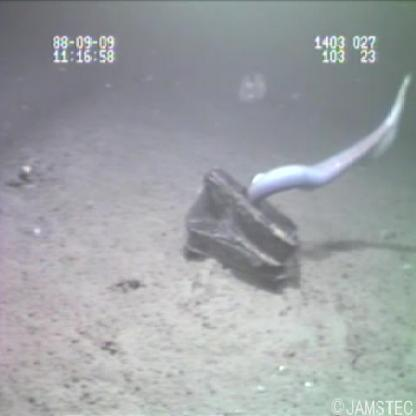Bio: (241, 70, 415, 212)
Rác: (179, 164, 299, 294)
